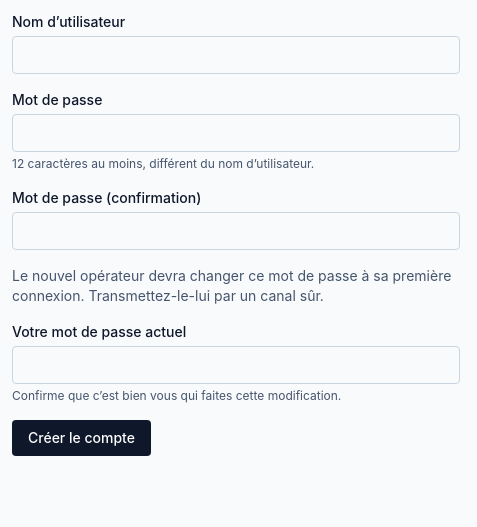
Test: CreateOperatorForm › translates a taken username, keeps it and empties the passwords
Type "bob" into the field labelled "Nom d’utilisateur".
click(236, 55); type("bob")  # box [12,36,460,74]
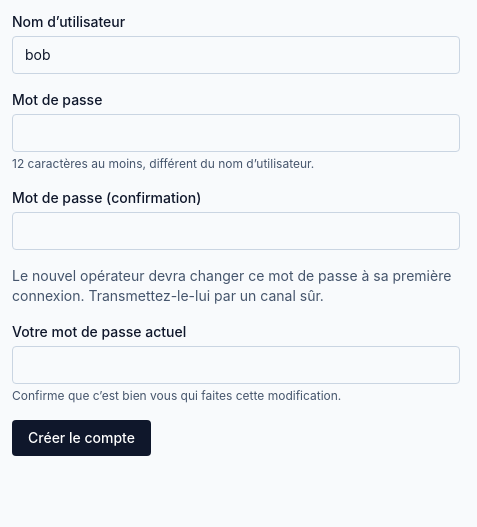
Type "correct horse battery" into the password field labelled "Mot de passe".
click(236, 133); type("correct horse battery")  # box [12,114,460,152]
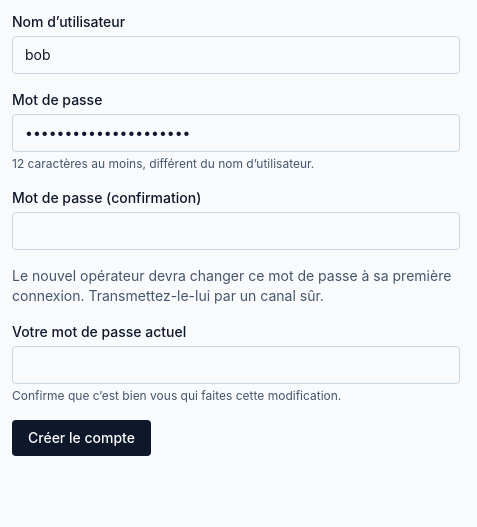
Type "correct horse battery" into the password field labelled "Mot de passe (confirmation)".
click(236, 231); type("correct horse battery")  # box [12,212,460,250]
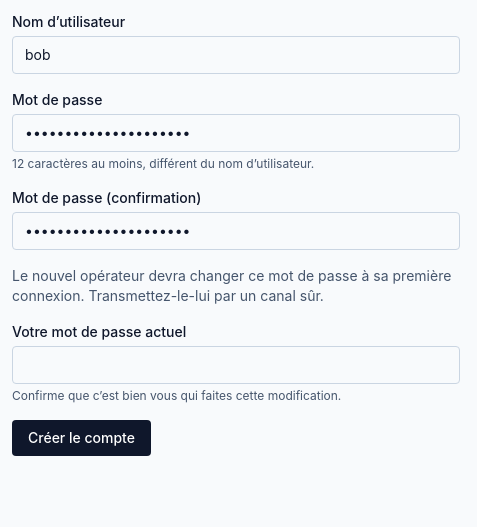
Type "my current password" into the password field labelled "Votre mot de passe actuel".
click(236, 365); type("my current password")  # box [12,346,460,384]
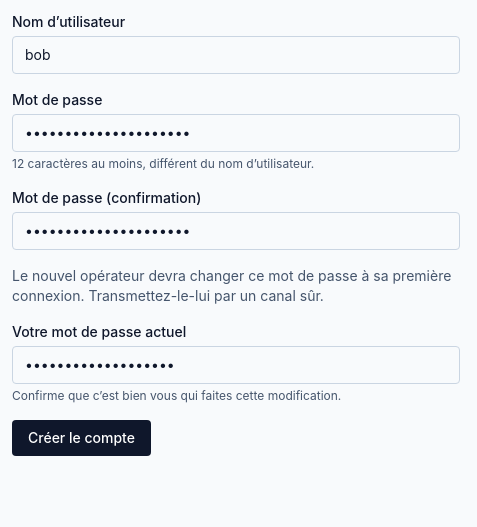
Click the button "Créer le compte".
click(82, 438)  # box [12,420,151,456]
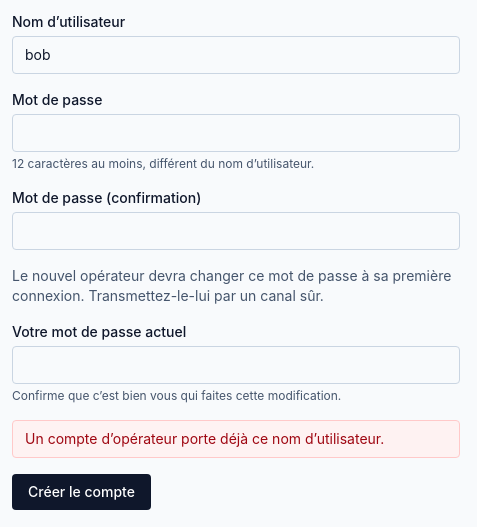
Expected: the message reads "Un compte d’opérateur porte déjà ce nom d’utilisateur.", [25,430,384,447]
Expected: the password field labelled "Mot de passe" is empty, [12,114,460,152]
Expected: the password field labelled "Votre mot de passe actuel" is empty, [12,346,460,384]
